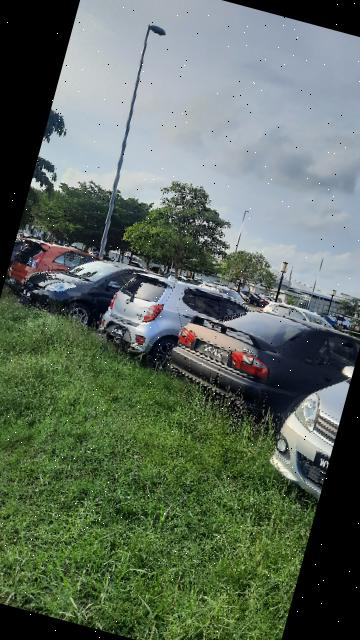License_Plate: (189, 333, 234, 367), (307, 446, 332, 475), (109, 323, 136, 344)
car: (154, 283, 360, 445), (94, 257, 253, 384), (262, 329, 360, 502), (16, 237, 169, 343), (1, 229, 125, 326)
